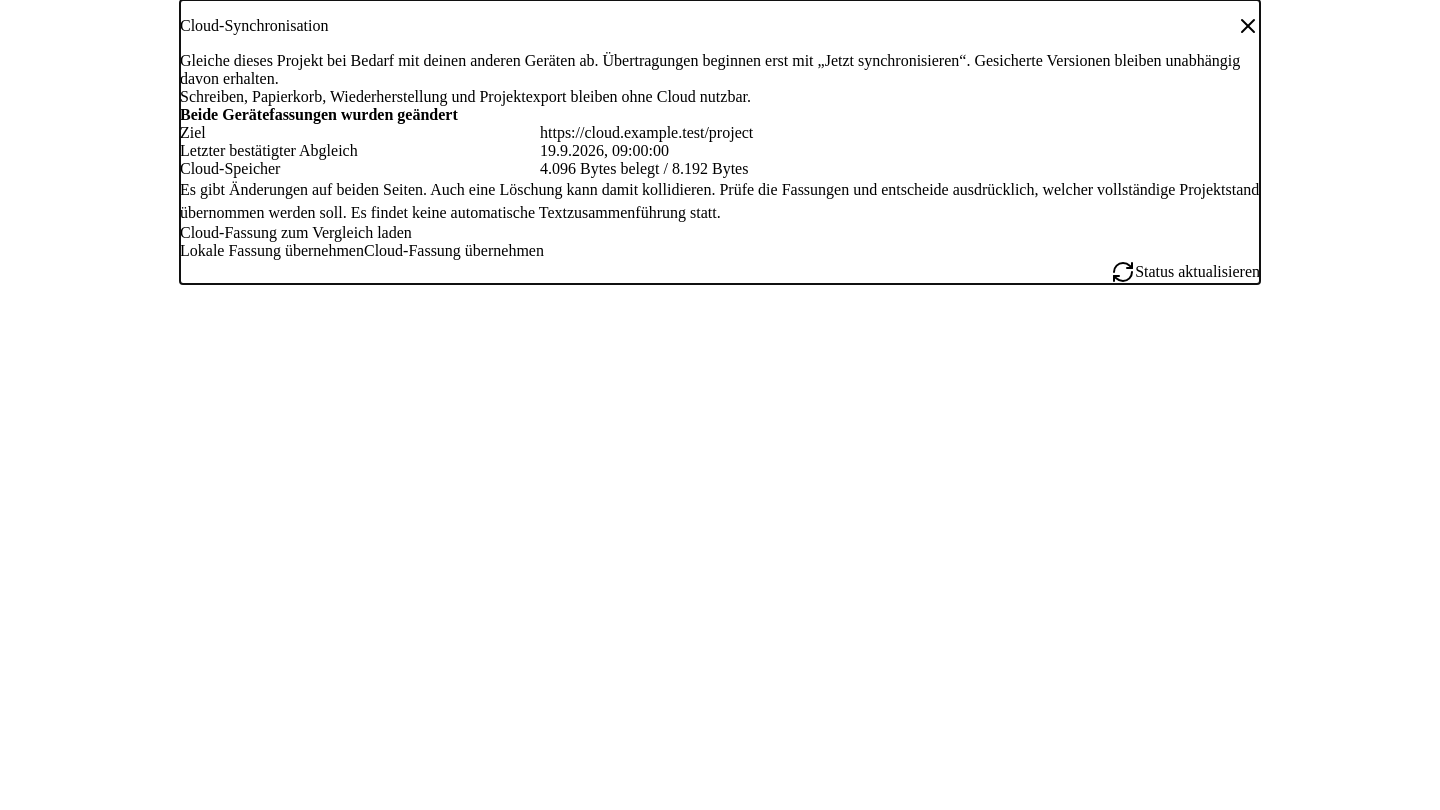
Test: CloudDialog › invalidates a loaded preview when status is refreshed
Click the button "Cloud-Fassung zum Vergleich laden": (296, 233) [180,224,412,242]
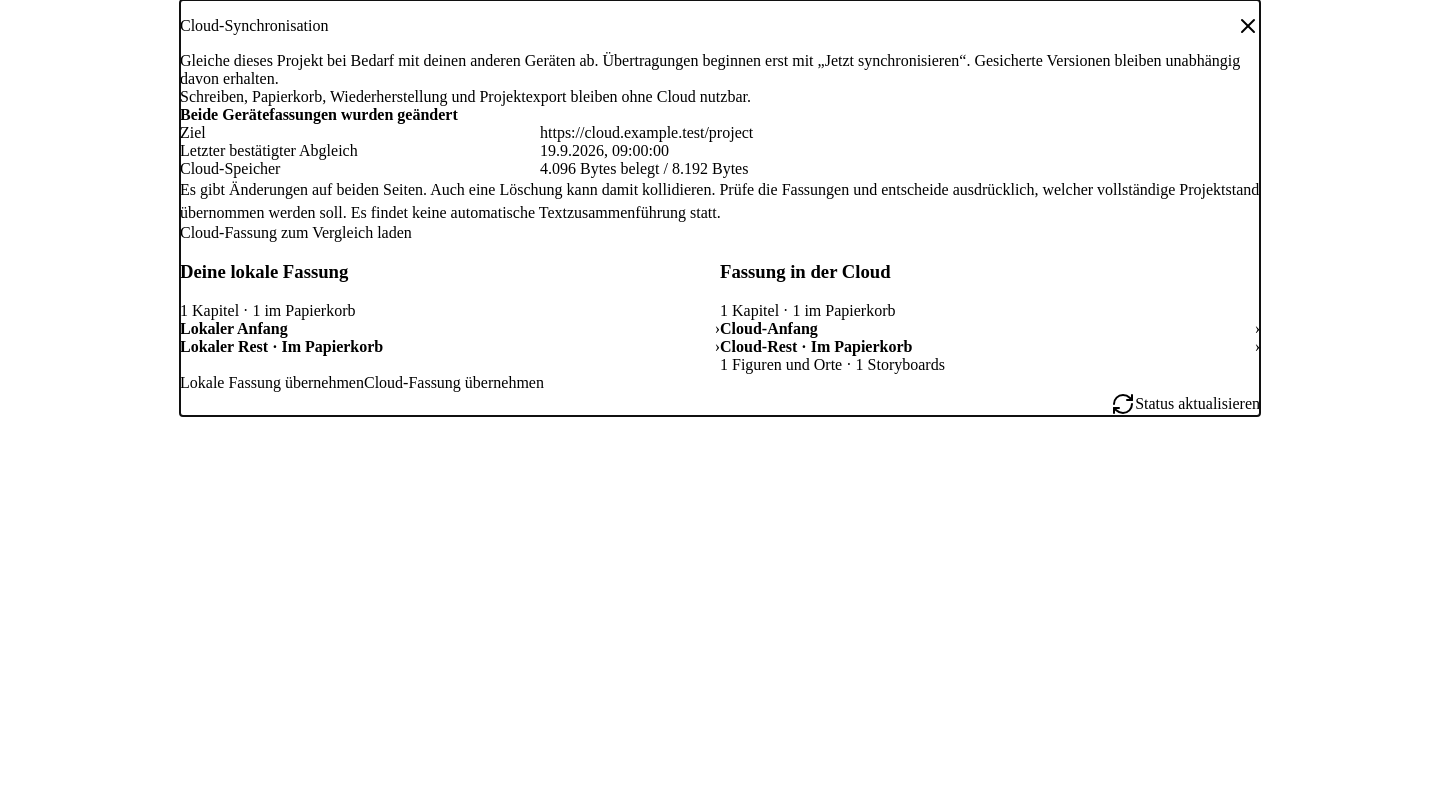
Click the button "Status aktualisieren": (1186, 404) [1111,392,1260,416]
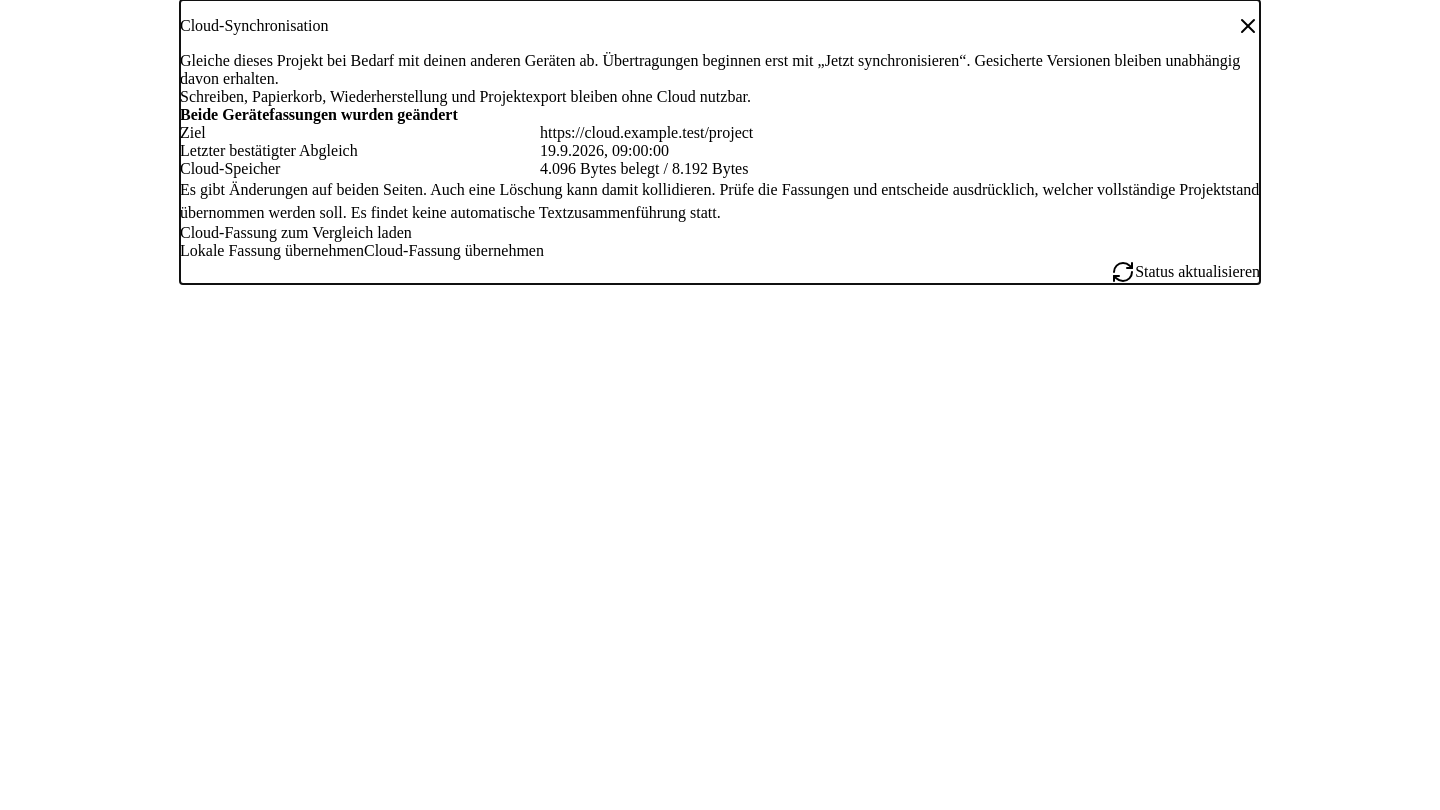
Result: the button "Lokale Fassung übernehmen" is disabled at [180,242,364,260]
Result: the button "Cloud-Fassung übernehmen" is disabled at [364,242,544,260]
